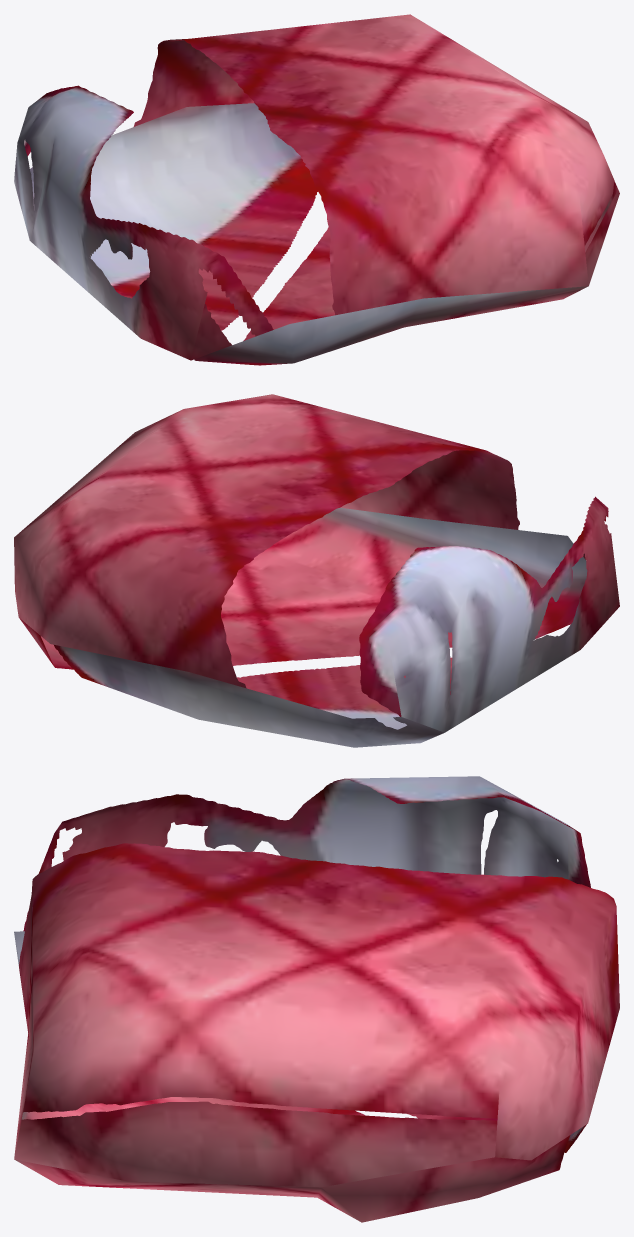
3 renders of one model, top to bottom at view 1: azimuth 30°, elevation 25°; view 2: azimuth 150°, elevation 25°; view 3: azimuth 270°, elevation 25°, orthographic. The views are drawn at different scales.
Parts seen in each view (by area): view 1: SM_Padded_Cloth_01_LOD0; view 2: SM_Padded_Cloth_01_LOD0; view 3: SM_Padded_Cloth_01_LOD0.
Part boxes in pixels (<box>): SM_Padded_Cloth_01_LOD0: <box>14,14,619,365</box>; SM_Padded_Cloth_01_LOD0: <box>14,394,619,747</box>; SM_Padded_Cloth_01_LOD0: <box>14,776,619,1222</box>.
Size of the model in its own units: 0.368 by 0.1322 by 0.3375.
